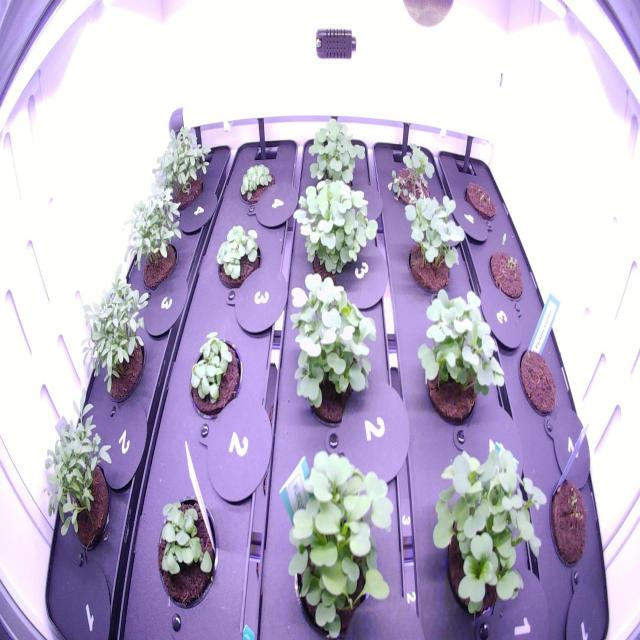germination: (152, 490, 222, 620), (182, 324, 244, 428), (546, 462, 592, 574), (214, 221, 266, 296), (485, 240, 528, 308), (234, 154, 278, 207)
pod: (514, 339, 562, 425), (458, 173, 501, 227)
